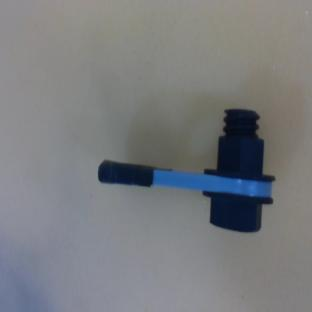part_1_bad: (92, 85, 288, 236)
